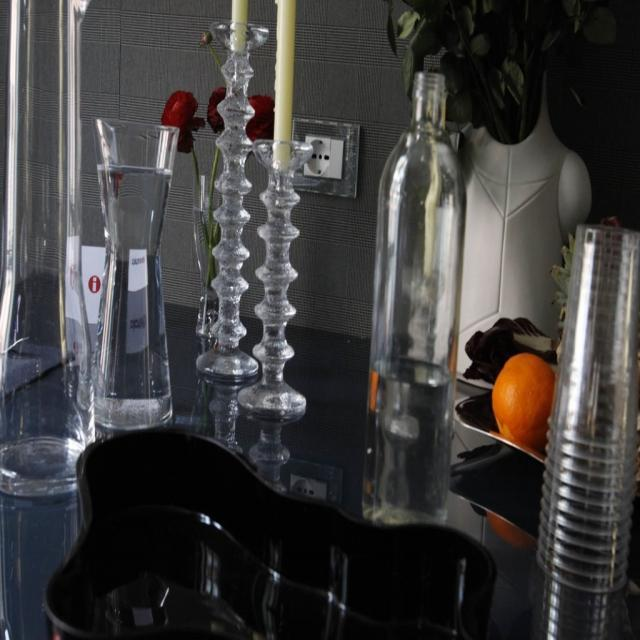Orange: (493, 350, 556, 450)
